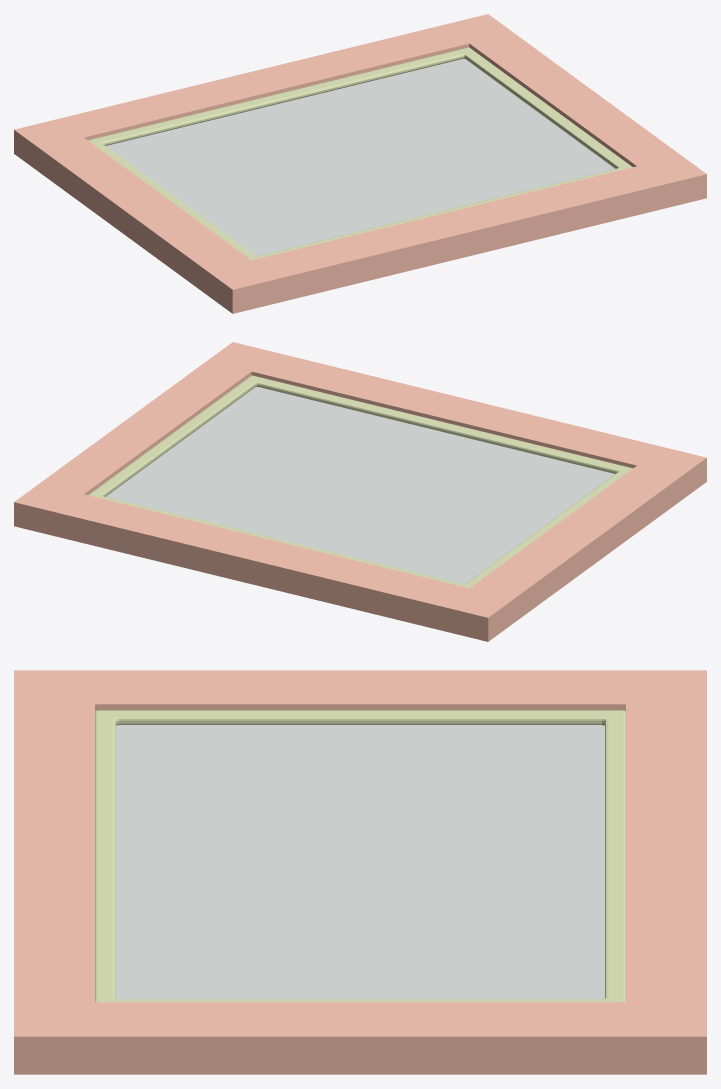
The model's file is photo_frame_1.fbx.
3 views of the same model, one above another, from view 1: azimuth 30°, elevation 25°; view 2: azimuth 150°, elevation 25°; view 3: azimuth 270°, elevation 25° (orthographic). The views are drawn at different scales.
Parts seen in each view (by area): view 1: Plane, Plane.001, Plane.002; view 2: Plane, Plane.001, Plane.002; view 3: Plane.001, Plane, Plane.002.
Boxes of the visible parts, x1,y1,x2,y2 form: Plane: (14, 14, 706, 313); Plane.001: (106, 59, 614, 255); Plane.002: (88, 47, 632, 260); Plane: (14, 342, 706, 641); Plane.001: (106, 387, 614, 583); Plane.002: (88, 375, 632, 588); Plane.001: (116, 725, 604, 999); Plane: (14, 670, 706, 1074); Plane.002: (95, 710, 625, 1002).
Size of the model in its own units: 250 by 12.16 by 200.
